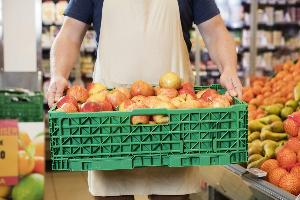apple: (45, 72, 245, 130)
orange: (264, 115, 300, 195)
pear: (232, 102, 298, 164)
